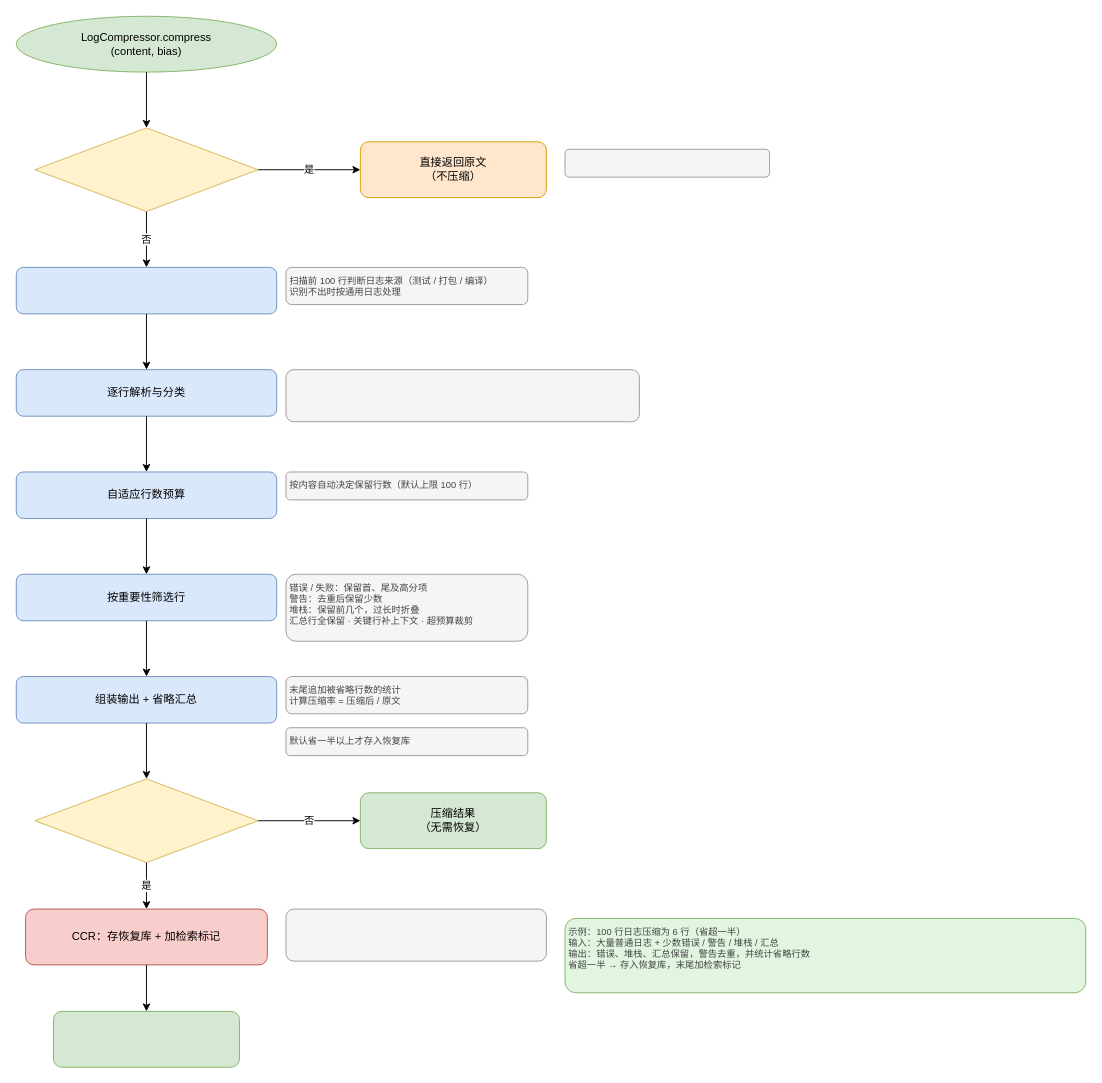
Some shapes in this 1102 by 1083 pixel diagram are drawn without their labels. The centre of each missing label's shape, as x and y in pixels:
"压缩省一半以上？" goes at [146,820].
"压缩结果 （可检索恢复）" goes at [146,1038].
"原文存入恢复库，末尾追加含哈希的检索标记 之后可凭标记找回被压缩掉的原文 功能关闭或写入失败时跳过" goes at [415,934].
"日志不足 50 行时不做压缩，直接返回原文" goes at [667,162].
"日志不足 50 行？" goes at [146,169].
"识别日志格式" goes at [146,290].
"逐行标记级别：错误 / 警告 / 信息 / 调试 识别堆栈与汇总行，链式异常跨空行不截断 按重要性打分：错误最高，堆栈与汇总加分" goes at [462,395].
